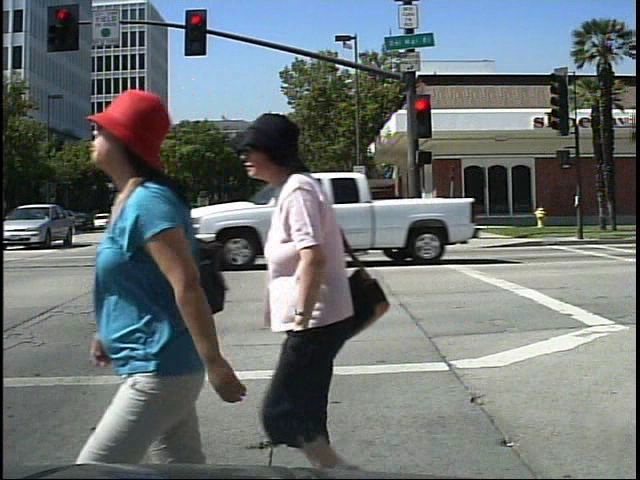person: (242, 112, 426, 476), (94, 70, 235, 468)
